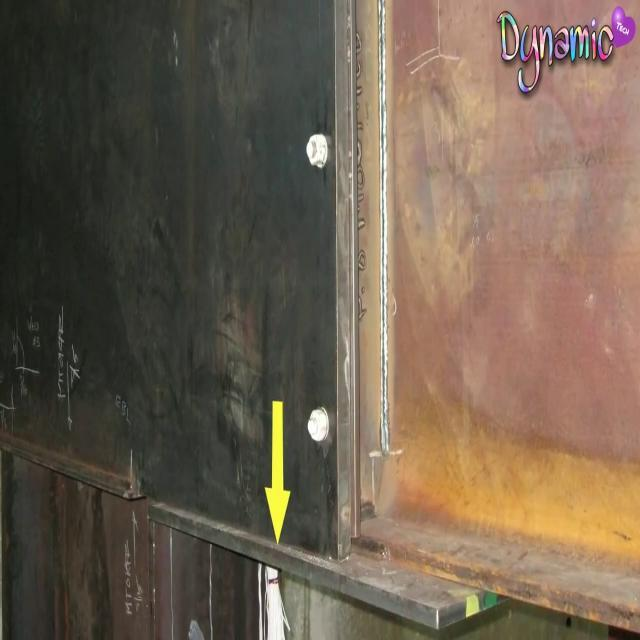Good Weld: (376, 0, 388, 452)
